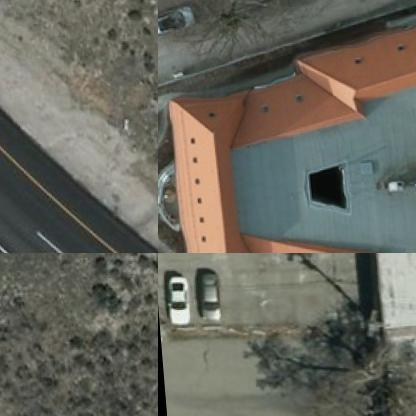car: (192, 266, 220, 322), (161, 268, 189, 323), (158, 5, 190, 35)
